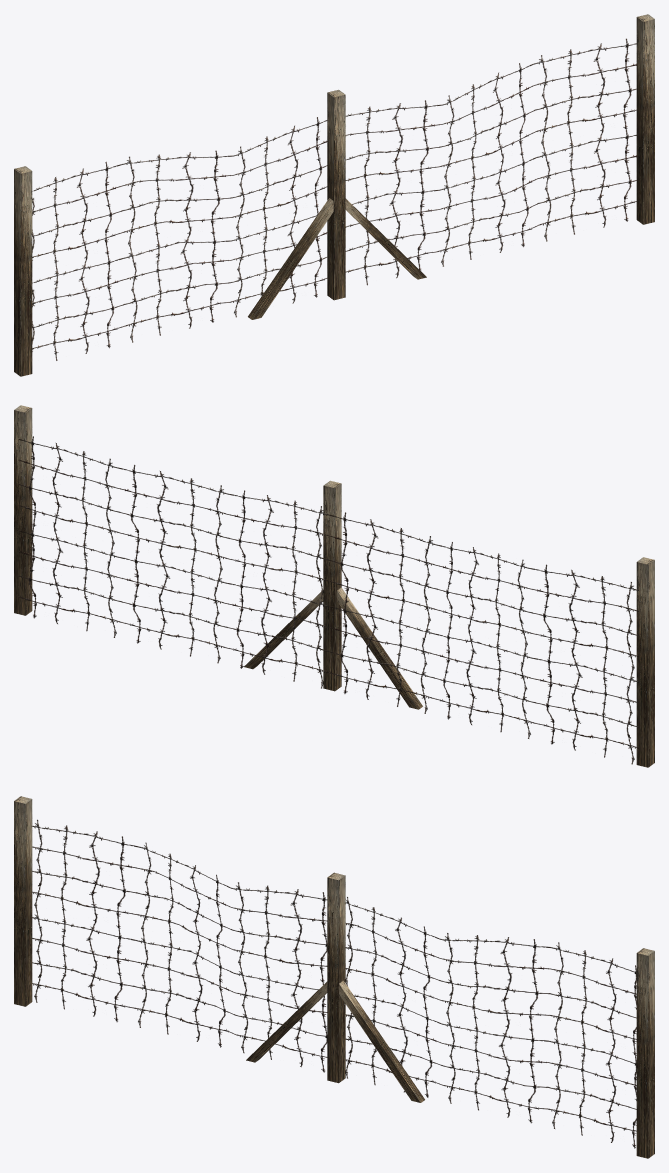
The model's file is fence_1.glb.
The picture shows the model from 3 angles, top to bottom: view 1: azimuth 30°, elevation 25°; view 2: azimuth 150°, elevation 25°; view 3: azimuth 330°, elevation 25°; orthographic projection.
Visible parts, largest first — view 1: wire, poles, pole; view 2: wire, poles, pole; view 3: wire, poles, pole.
Boxes of the visible parts, box(x1,y1,x2,y2) form: wire: box(32, 38, 636, 360); poles: box(248, 14, 654, 319); pole: box(14, 166, 32, 376); wire: box(18, 436, 638, 764); poles: box(14, 405, 422, 709); pole: box(636, 557, 654, 767); wire: box(32, 819, 636, 1148); poles: box(246, 872, 654, 1158); pole: box(14, 796, 32, 1006).
Size of the model in its own units: 22.48 by 6.88 by 0.7568.
2 materials, 2 textured.
